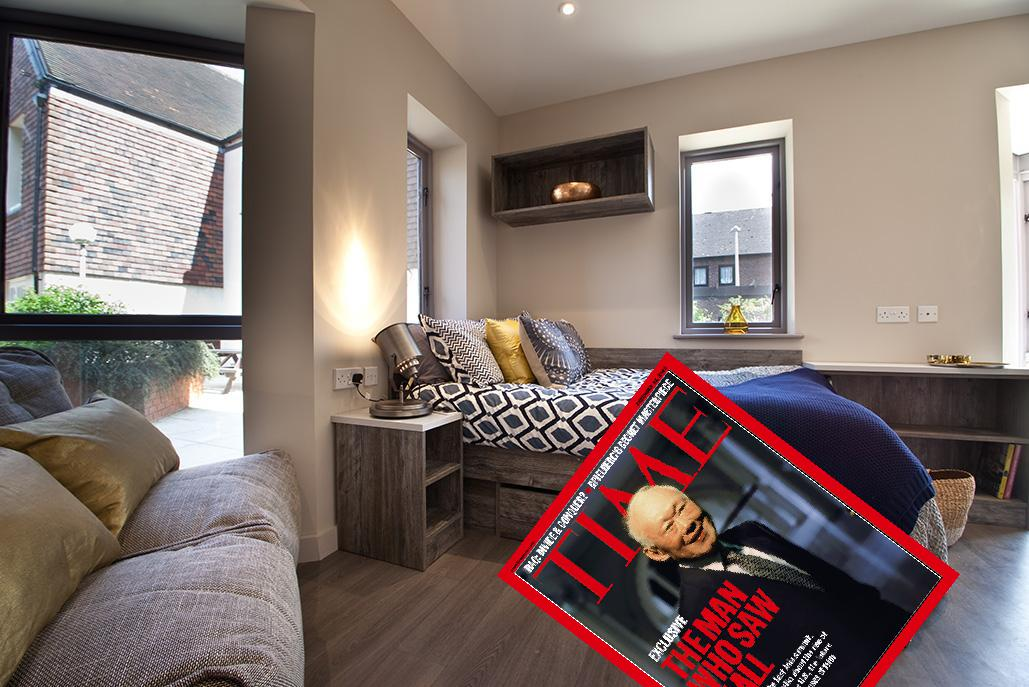times: (495, 352, 961, 685)
